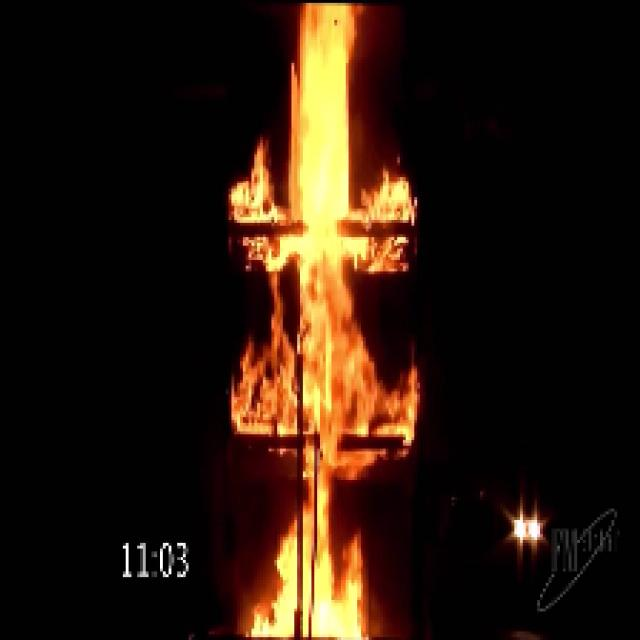fire: (260, 6, 394, 640)
